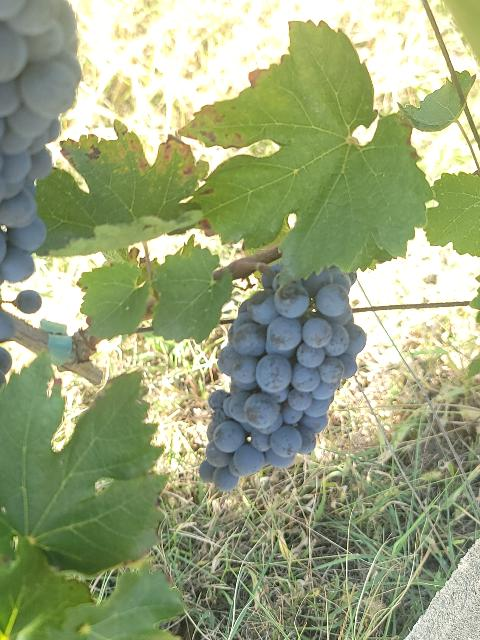grapes: (200, 264, 366, 491)
